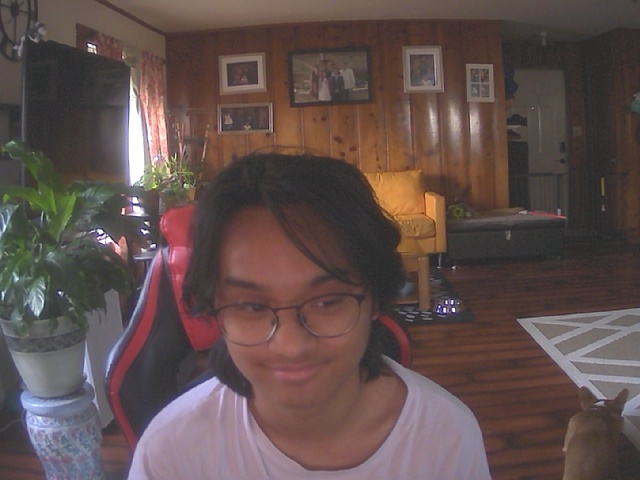happy: (203, 168, 390, 414)
